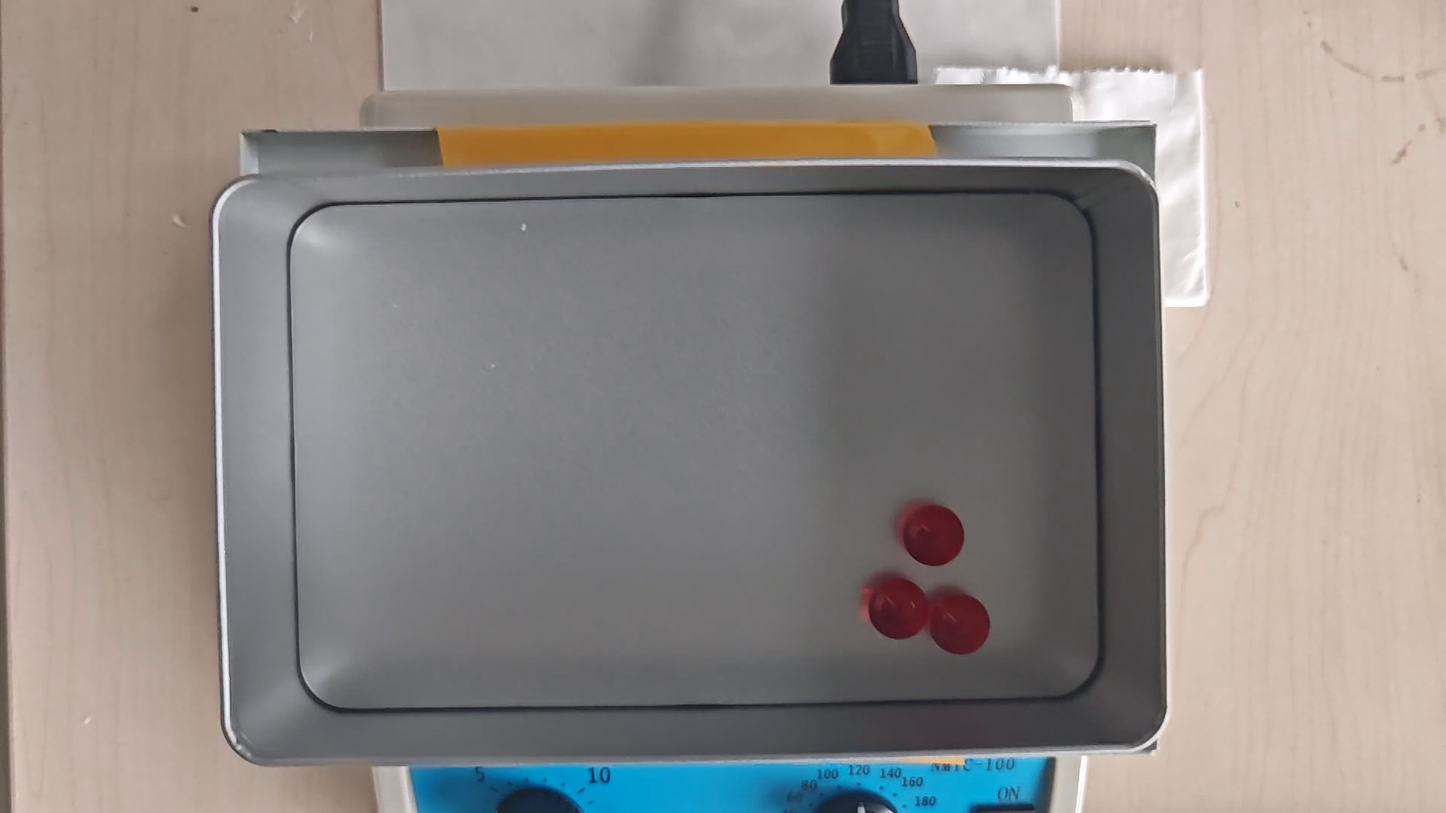ball: (868, 578, 929, 638), (932, 593, 990, 656), (905, 504, 962, 563)
container: (293, 193, 1098, 707)
